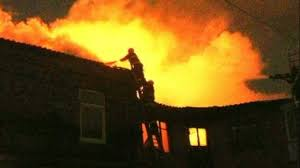fire: (27, 3, 268, 111)
